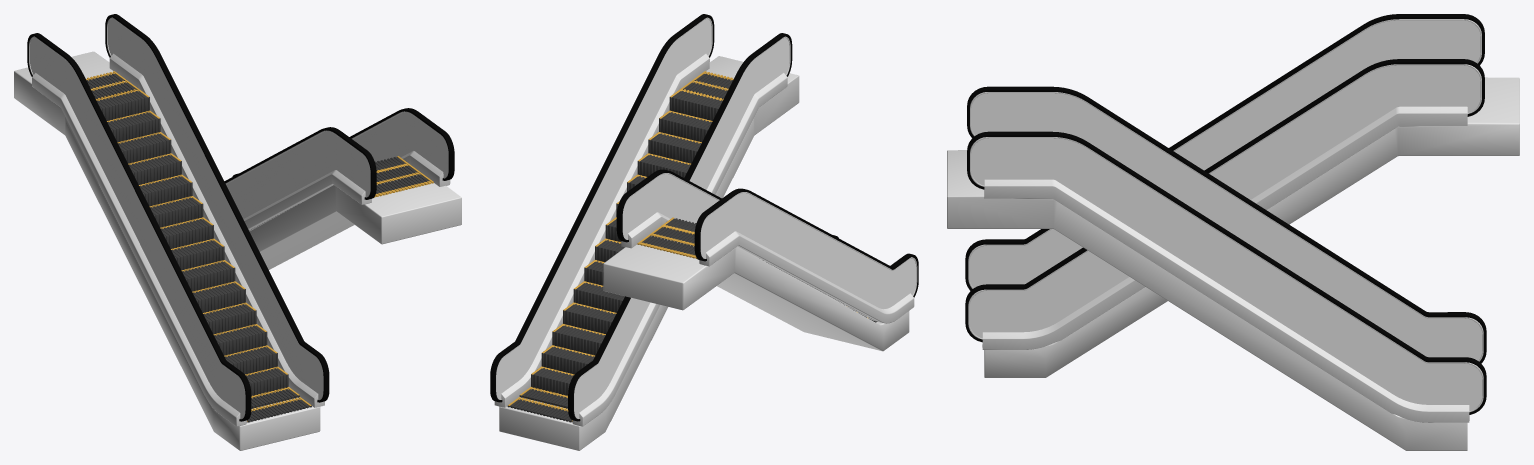
The model's file is escalators.glb.
The picture shows the model from 3 angles, left to right: view 1: azimuth 30°, elevation 25°; view 2: azimuth 150°, elevation 25°; view 3: azimuth 270°, elevation 25°; orthographic projection. The views are drawn at different scales.
Visible parts, largest first — view 1: Cube_9, Cube.019_29, glass siding.001_4, glass siding_0, Cube.009_14, glass siding.003_20, bottom thing.001_7, bottom thing_3, glass siding.002_16, Cube.001_1, Cube.003_5, bottom thing.003_23 (+8 smaller); view 2: Cube.009_14, Cube.014_24, glass siding.001_4, glass siding.002_16, Cube.019_29, glass siding.003_20, bottom thing.001_7, bottom thing.002_19, bottom thing.003_23, glass siding_0, Cube.010_17, Cube.012_21 (+9 smaller); view 3: glass siding.002_16, glass siding.003_20, glass siding_0, Cube.019_29, glass siding.001_4, Cube.009_14, bottom thing.002_19, bottom thing_3, Cube.010_17, Cube.012_21, Cube.001_1, Cube.003_5 (+4 smaller).
Boxes of the visible parts, <box> form: Cube_9: <box>96,88,288,395</box>; Cube.019_29: <box>249,174,461,269</box>; glass siding.001_4: <box>30,38,245,418</box>; glass siding_0: <box>108,19,323,399</box>; Cube.009_14: <box>14,51,320,450</box>; glass siding.003_20: <box>226,131,370,218</box>; bottom thing.001_7: <box>32,73,246,426</box>; bottom thing_3: <box>109,53,324,407</box>; glass siding.002_16: <box>353,112,448,177</box>; Cube.001_1: <box>105,14,329,402</box>; Cube.003_5: <box>27,33,251,421</box>; bottom thing.003_23: <box>243,170,371,231</box>; Cube.009_14: <box>603,236,909,351</box>; Cube.014_24: <box>531,88,723,395</box>; glass siding.001_4: <box>700,193,916,309</box>; glass siding.002_16: <box>496,19,711,399</box>; Cube.019_29: <box>499,56,799,450</box>; glass siding.003_20: <box>574,38,789,418</box>; bottom thing.001_7: <box>699,231,914,323</box>; bottom thing.002_19: <box>494,54,709,407</box>; bottom thing.003_23: <box>572,73,787,426</box>; glass siding_0: <box>623,174,718,238</box>; Cube.010_17: <box>490,14,714,402</box>; Cube.012_21: <box>568,33,792,421</box>; glass siding.002_16: <box>971,138,1482,410</box>; glass siding.003_20: <box>971,93,1482,360</box>; glass siding_0: <box>969,65,1480,338</box>; Cube.019_29: <box>947,150,1467,450</box>; glass siding.001_4: <box>969,20,1480,287</box>; Cube.009_14: <box>984,77,1519,377</box>; bottom thing.002_19: <box>984,179,1469,422</box>; bottom thing_3: <box>982,106,1467,349</box>; Cube.010_17: <box>967,131,1486,414</box>; Cube.012_21: <box>967,86,1486,363</box>; Cube.001_1: <box>965,59,1484,342</box>; Cube.003_5: <box>965,14,1484,290</box>.
Bounding box in the file's own units: 10.93 × 13.02 × 21.3.
